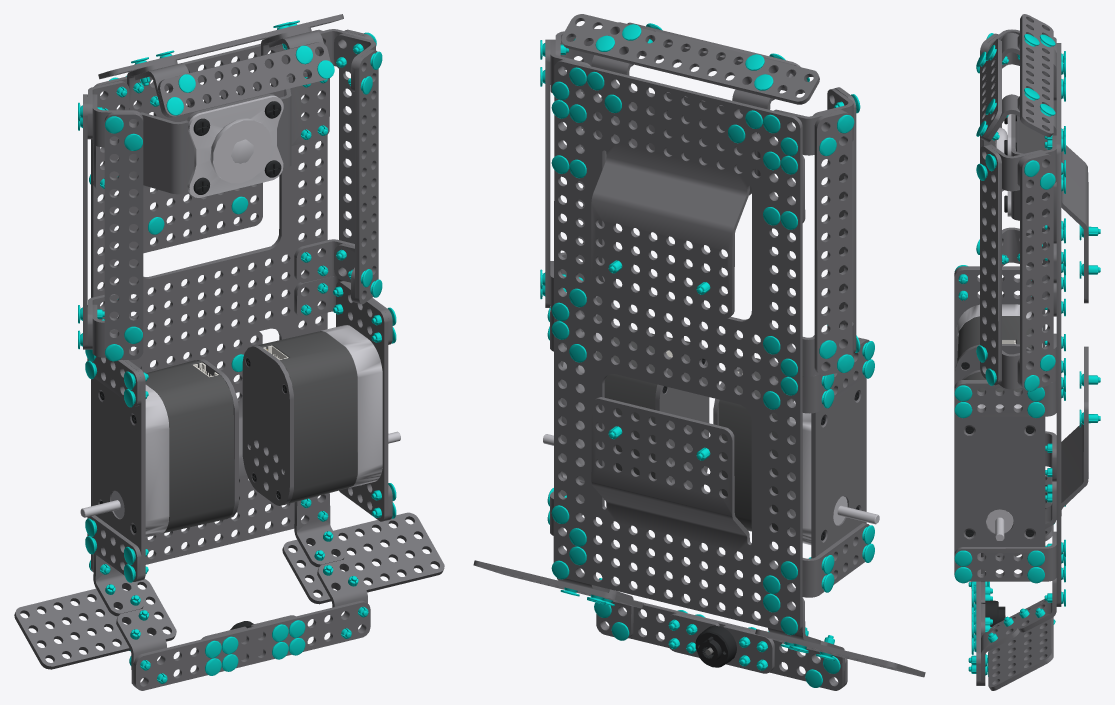
Rendered from chassis_asm_planar.dae.
3 views of the same model, side by side, from view 1: azimuth 30°, elevation 25°; view 2: azimuth 150°, elevation 25°; view 3: azimuth 270°, elevation 25° (orthographic). The views are drawn at different scales.
Parts seen in each view (by area): view 1: 0000060413_ASM, 0000060934_ASM, 0000056421_ASM.001, 0000056421_ASM, 0000060377_ASM, 0000060377_ASM.001, 0000060378_ASM, BRACKET.001, 200-01A, 200-03A, 0000060414_ASM, 0000060415_ASM; view 2: 0000060413_ASM, 0000056421_ASM, 0000060377_ASM, 0000060378_ASM, 0000060934_ASM, 0000056421_ASM.001, 0000060414_ASM, 0000061031_ASM, 0000060377_ASM.001, BRACKET.001; view 3: 0000060377_ASM.001, 0000056421_ASM.001, 0000060413_ASM, 0000060378_ASM, 0000060934_ASM, 0000060415_ASM, 0000056421_ASM, BRACKET.001, 0000060377_ASM, 0000060414_ASM, 0000061031_ASM, 200-01A (+2 smaller).
Boxes of the visible parts, x1,y1,x2,y2 form: 0000060413_ASM: (91,29,327,572); 0000060934_ASM: (14,493,444,690); 0000056421_ASM.001: (242,281,400,521); 0000056421_ASM: (80,359,238,580); 0000060377_ASM: (83,80,143,359); 0000060377_ASM.001: (294,29,378,304); 0000060378_ASM: (98,14,343,117); BRACKET.001: (93,72,329,194); 200-01A: (187,95,283,197); 200-03A: (210,118,271,183); 0000060414_ASM: (87,329,141,581); 0000060415_ASM: (294,276,392,520); 0000060413_ASM: (553,59,802,632); 0000056421_ASM: (713,337,879,574); 0000060377_ASM: (772,87,856,376); 0000060378_ASM: (561,14,819,139); 0000060934_ASM: (473,545,925,690); 0000056421_ASM.001: (543,296,709,528); 0000060414_ASM: (772,339,870,597); 0000061031_ASM: (666,613,774,673); 0000060377_ASM.001: (545,29,602,317); BRACKET.001: (560,92,805,222); 0000060377_ASM.001: (980,135,1056,389); 0000056421_ASM.001: (954,370,1045,575); 0000060413_ASM: (1056,43,1088,606); 0000060378_ASM: (980,14,1056,142); 0000060934_ASM: (976,475,1056,690); 0000060415_ASM: (954,380,1056,581); 0000056421_ASM: (954,268,1045,386); BRACKET.001: (1011,100,1056,243); 0000060377_ASM: (980,29,1056,283); 0000060414_ASM: (954,266,1056,481); 0000061031_ASM: (981,582,1005,637); 200-01A: (1007,114,1011,216).
Bounding box in the file's own units: 0.192 × 0.0643 × 0.2775.
